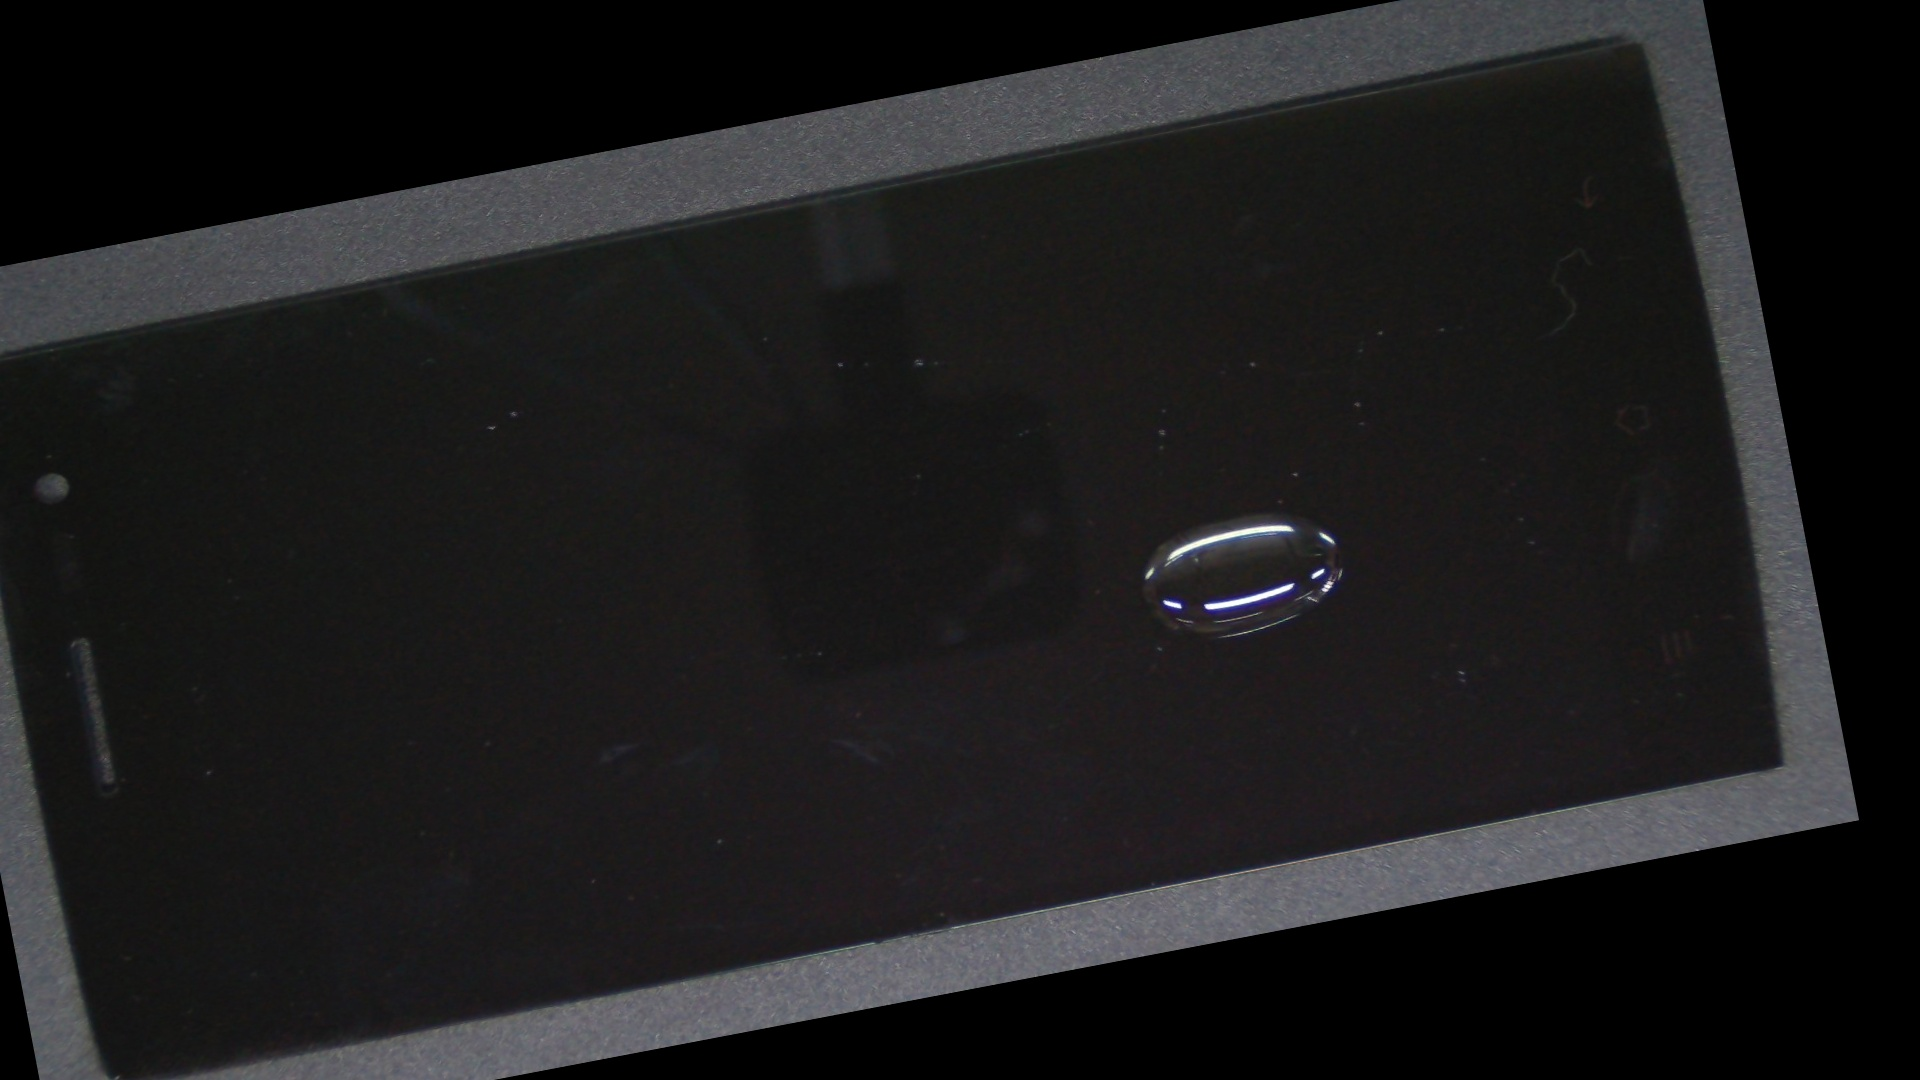oil: (541, 179, 1826, 878)
